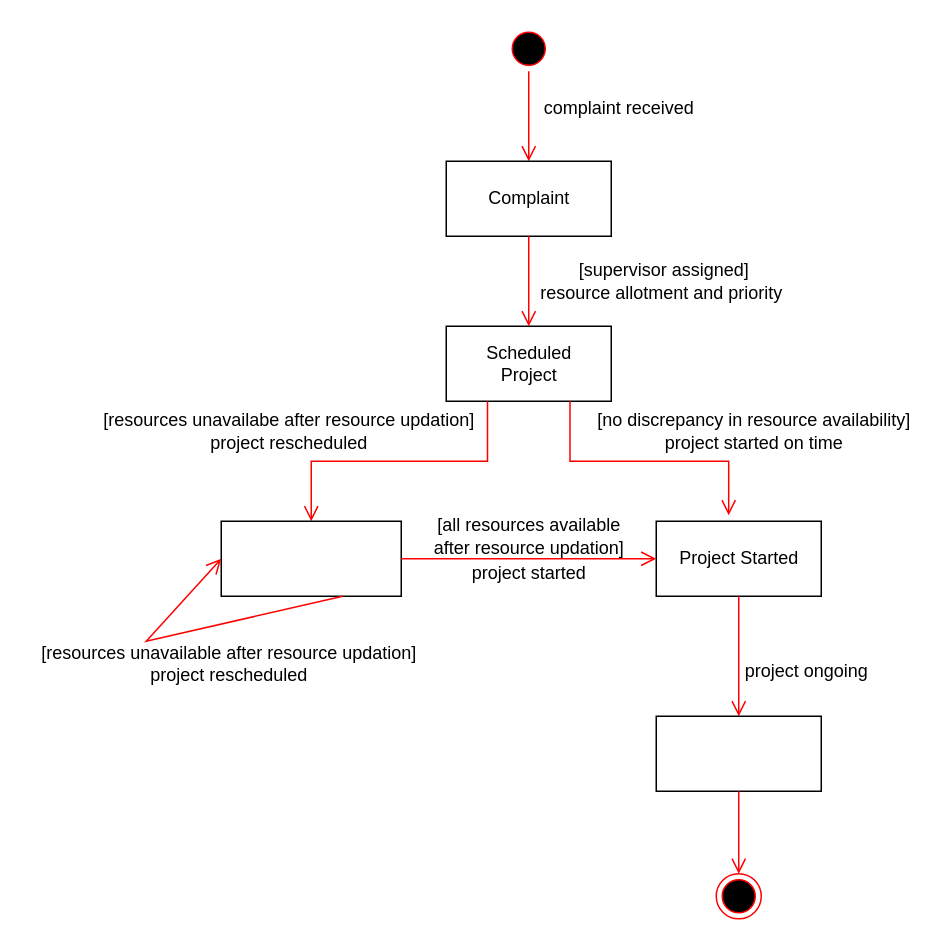
The diagram is 951 pixels wide and 945 high, and some of its shapes have lost their labels. Each missing label, with the box of its shape:
Finished Project: (655, 715, 821, 791)
Rescheduled Project: (220, 520, 401, 596)
